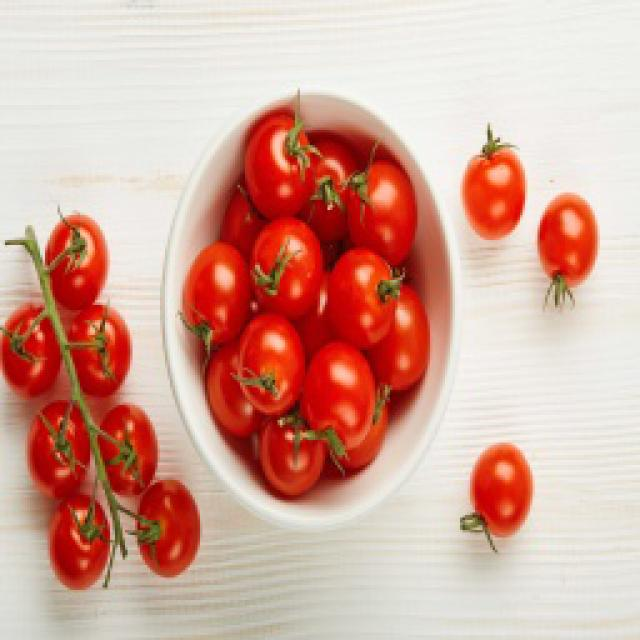tomato: (302, 342, 382, 468), (20, 215, 110, 325), (242, 105, 322, 223), (457, 443, 535, 555), (325, 247, 405, 355), (250, 218, 328, 322), (348, 155, 418, 270), (460, 128, 530, 240), (235, 312, 307, 420), (182, 245, 252, 355), (538, 192, 600, 312), (133, 480, 205, 582), (27, 403, 95, 505), (47, 490, 115, 592), (63, 305, 135, 400), (98, 405, 160, 515), (0, 305, 62, 400)
